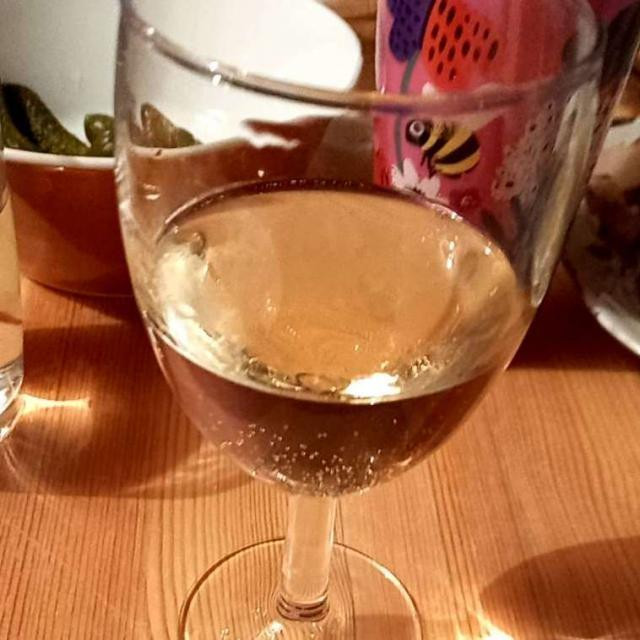wine: (147, 179, 528, 498)
